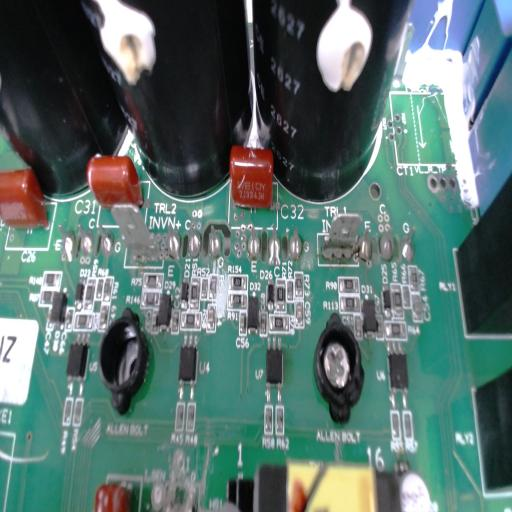pin_group: (238, 211, 305, 270), (359, 214, 424, 272), (157, 214, 226, 266), (50, 214, 116, 264)
solder_ball: (242, 220, 263, 266), (401, 222, 421, 266), (55, 223, 78, 261), (161, 226, 182, 261), (76, 223, 94, 263), (265, 220, 283, 260), (95, 219, 114, 255), (186, 219, 204, 257), (377, 219, 395, 257), (288, 225, 304, 261), (360, 224, 372, 262), (208, 224, 220, 261)
